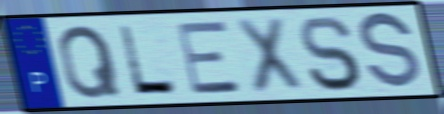E: (174, 19, 246, 97)
L: (115, 23, 182, 97)
Q: (56, 22, 124, 101)
S: (357, 9, 423, 94), (296, 13, 364, 94)
X: (232, 15, 307, 97)
